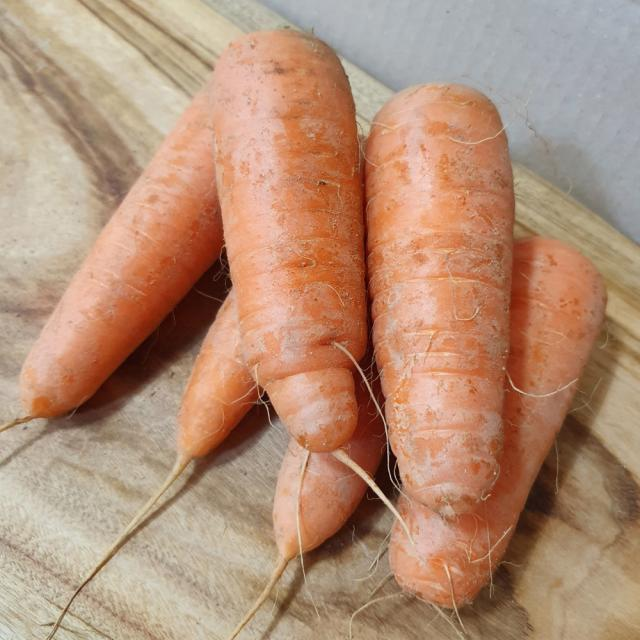carrot: (205, 26, 378, 476), (360, 79, 508, 516)
